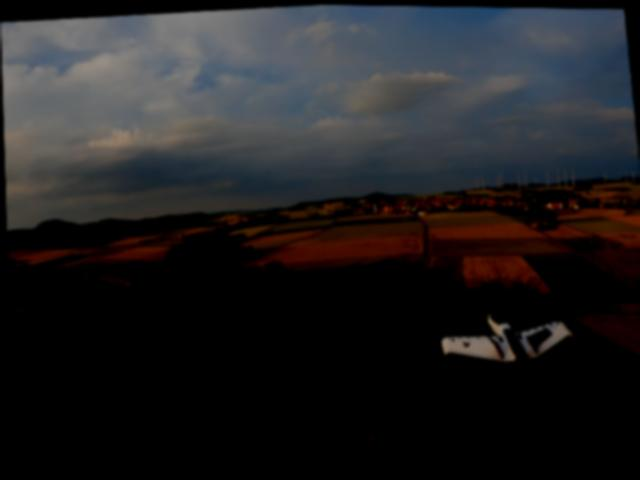plane: (435, 302, 573, 371)
